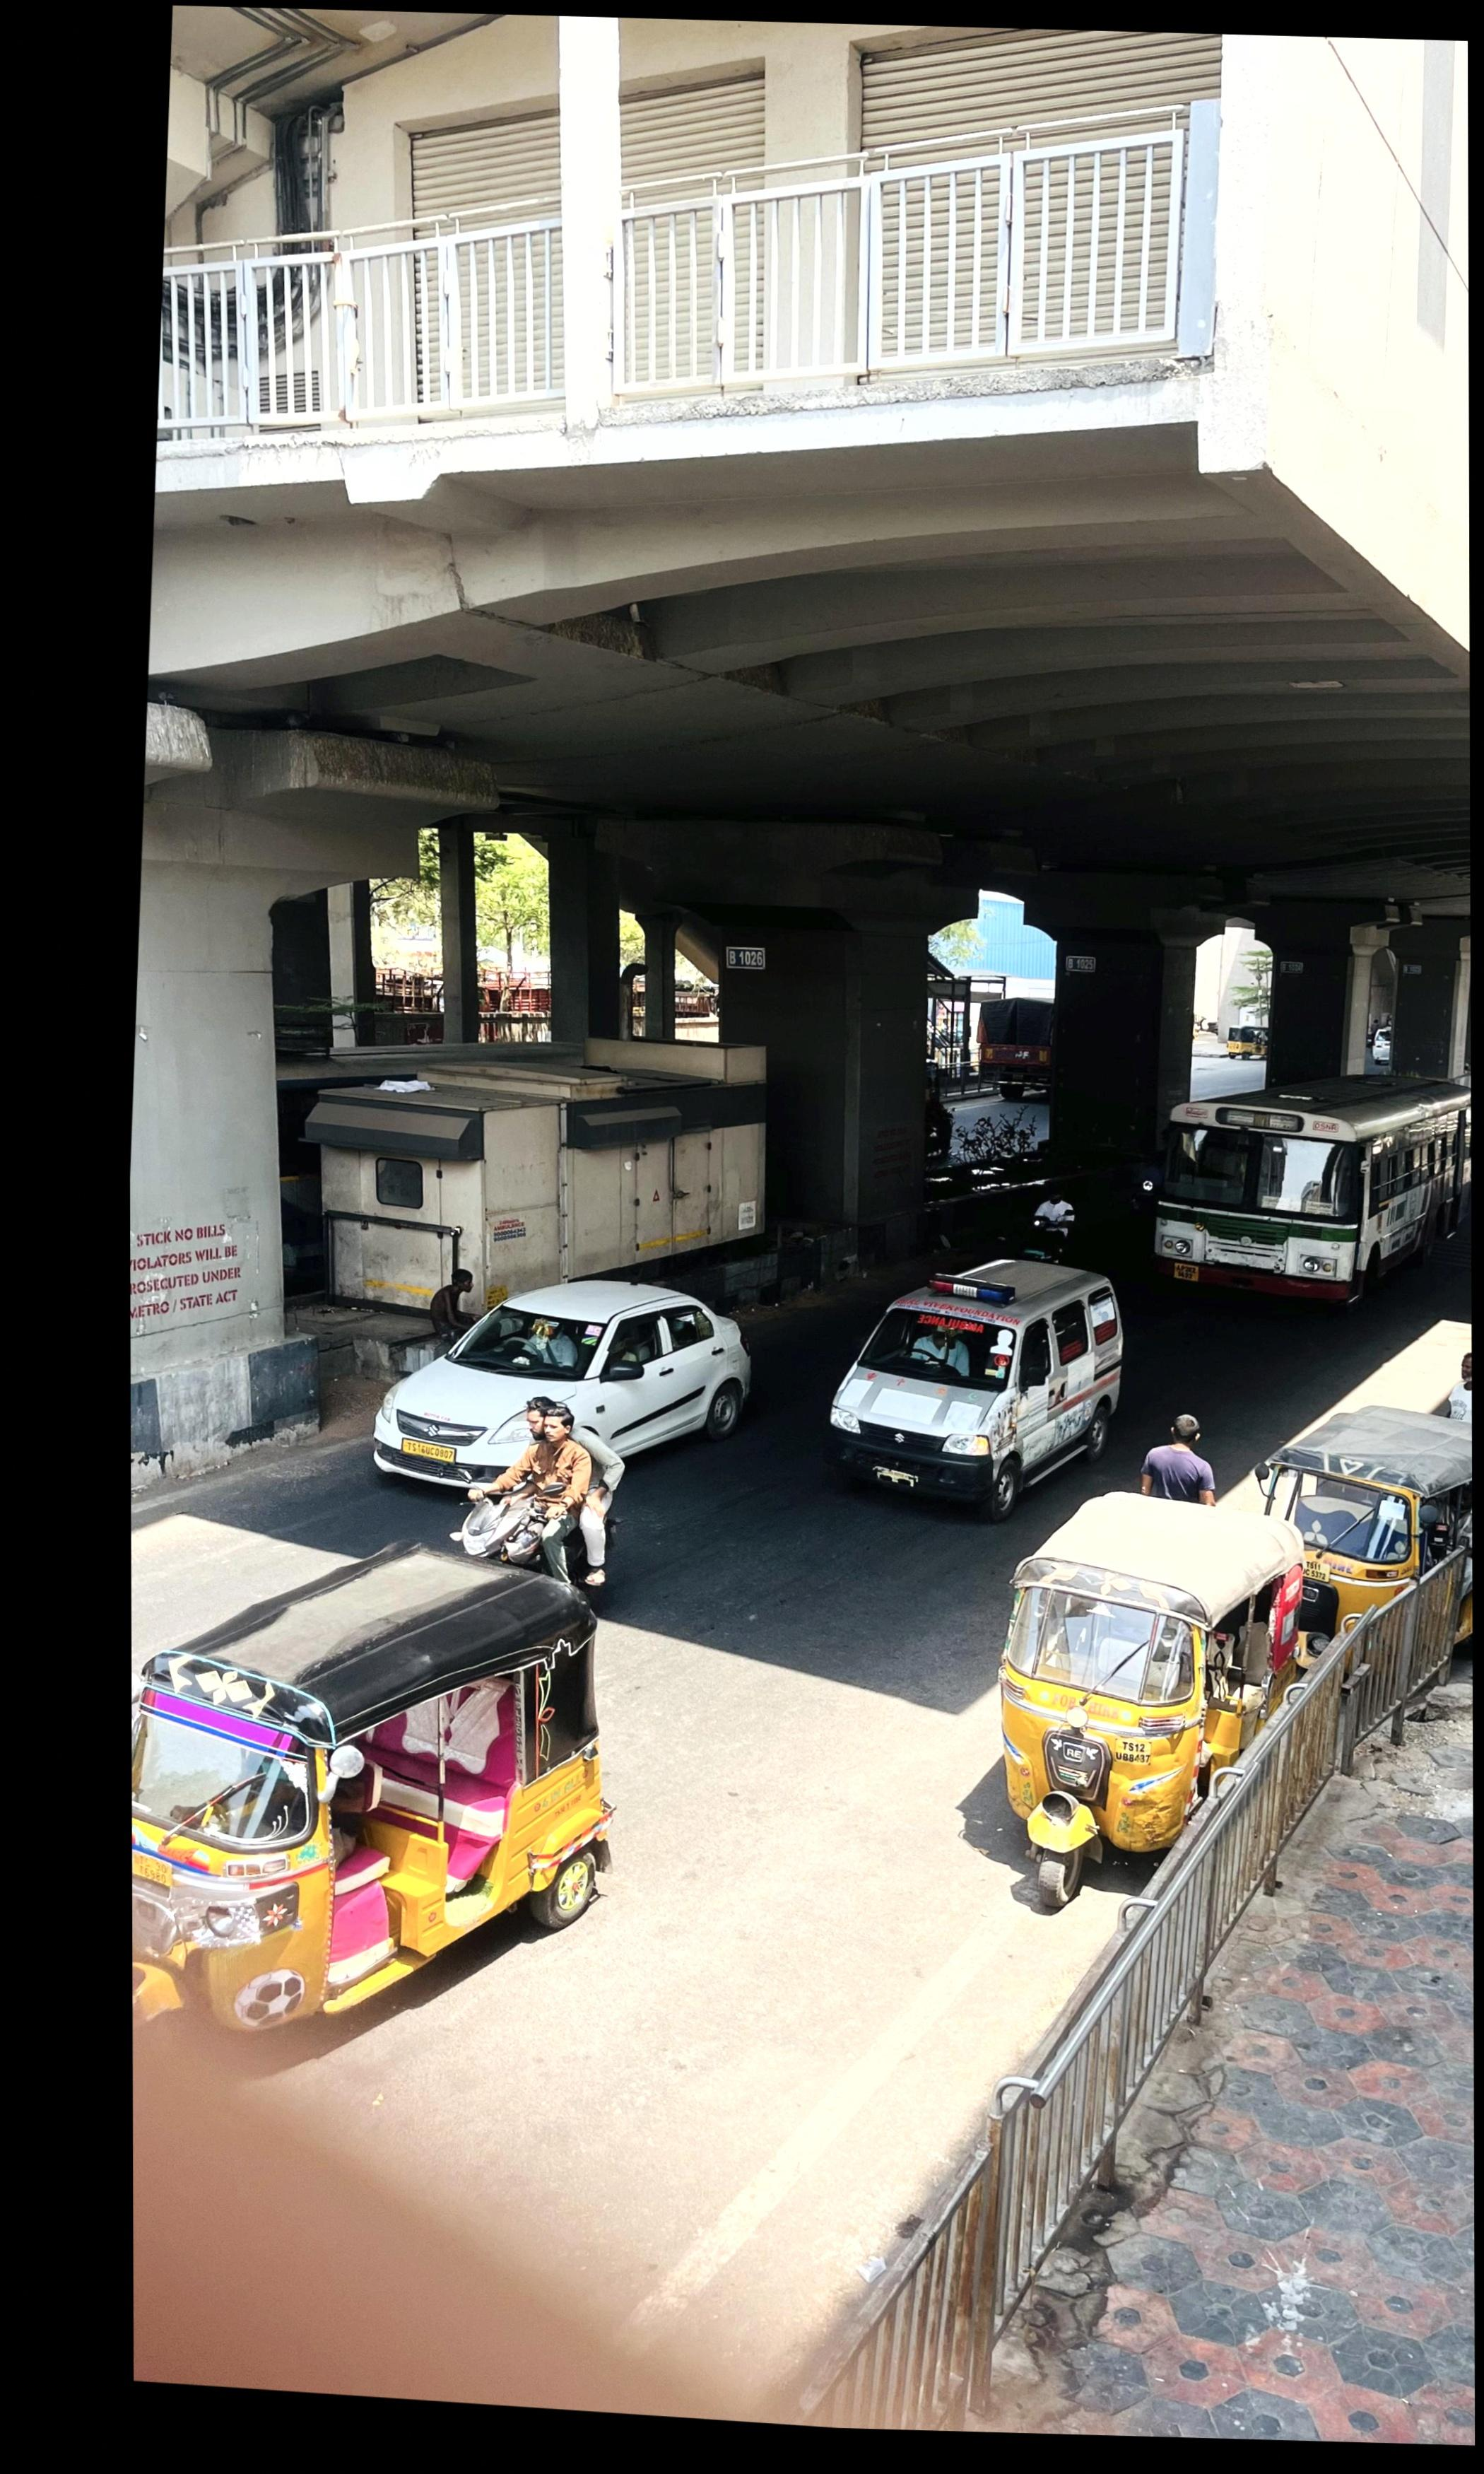ambulance: (823, 1241, 1148, 1523)
